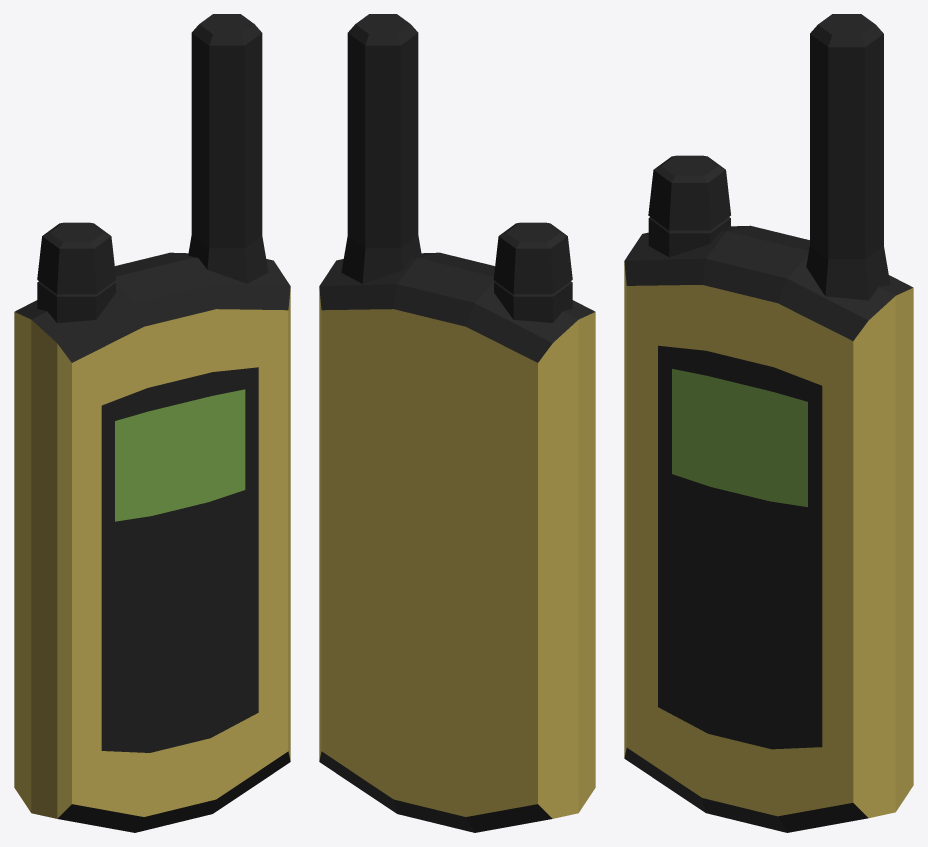
The model's file is Radio_mat.fbx.
The picture shows the model from 3 angles, left to right: view 1: azimuth 30°, elevation 25°; view 2: azimuth 150°, elevation 25°; view 3: azimuth 330°, elevation 25°; orthographic projection. The views are drawn at different scales.
Visible parts, largest first — view 1: Radio_mat; view 2: Radio_mat; view 3: Radio_mat.
Part boxes in pixels (bbox=[...]): Radio_mat: bbox=[14, 14, 290, 832]; Radio_mat: bbox=[319, 14, 595, 832]; Radio_mat: bbox=[624, 14, 913, 832].
Size of the model in its own units: 7.29 by 22.29 by 2.88.
